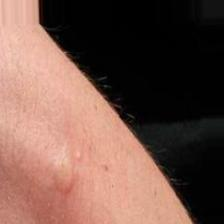Reupload: (54, 158, 75, 193)
